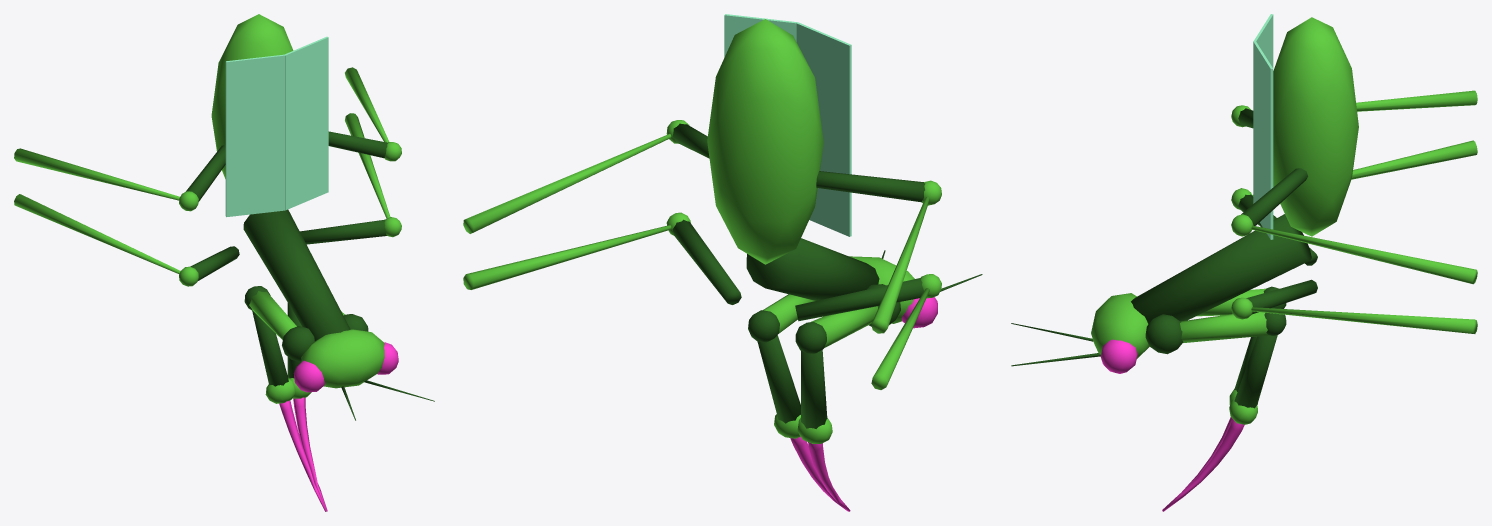
Rendered from shooter-mantis.glb.
The picture shows the model from 3 angles, left to right: view 1: azimuth 30°, elevation 25°; view 2: azimuth 150°, elevation 25°; view 3: azimuth 270°, elevation 25°; orthographic projection. The views are drawn at different scales.
Parts seen in each view (by area): view 1: Body Mesh, Head Mesh, ClawR Elbow Mesh, ClawR Mesh, LegA 2 Down Mesh, LegB 0 Down Mesh, LegA 1 Mesh, ClawL Elbow Mesh, LegB 3 Mesh, LegA 1 Down Mesh, LegA 2 Mesh, LegB 3 Down Mesh (+1 smaller); view 2: Body Mesh, ClawR Elbow Mesh, ClawL Elbow Mesh, LegA 1 Down Mesh, LegB 3 Down Mesh, LegA 2 Mesh, LegB 0 Mesh, LegA 1 Mesh, LegA 2 Down Mesh, Head Mesh, ClawR Mesh, LegB 0 Down Mesh (+2 smaller); view 3: Body Mesh, Head Mesh, ClawL Elbow Mesh, ClawL Mesh, LegB 3 Down Mesh, LegA 1 Down Mesh, LegB 0 Down Mesh, LegA 2 Down Mesh, LegB 3 Mesh, LegA 1 Mesh, ClawR Elbow Mesh.
Boxes of the visible parts, <box> form: Body Mesh: <box>211,14,350,341</box>; Head Mesh: <box>293,329,434,420</box>; ClawR Elbow Mesh: <box>244,286,326,511</box>; ClawR Mesh: <box>249,291,314,362</box>; LegA 2 Down Mesh: <box>14,148,179,200</box>; LegB 0 Down Mesh: <box>14,194,180,273</box>; LegA 1 Mesh: <box>300,219,386,244</box>; ClawL Elbow Mesh: <box>287,303,327,511</box>; LegB 3 Mesh: <box>328,131,388,158</box>; LegA 1 Down Mesh: <box>345,113,390,218</box>; LegA 2 Mesh: <box>186,145,225,201</box>; LegB 3 Down Mesh: <box>345,67,389,142</box>; Body Mesh: <box>707,14,879,300</box>; ClawR Elbow Mesh: <box>795,322,850,511</box>; ClawL Elbow Mesh: <box>748,310,847,511</box>; LegA 1 Down Mesh: <box>463,225,671,289</box>; LegB 3 Down Mesh: <box>463,134,671,233</box>; LegA 2 Mesh: <box>816,171,925,202</box>; LegB 0 Mesh: <box>795,277,923,321</box>; LegA 1 Mesh: <box>672,219,741,304</box>; LegA 2 Down Mesh: <box>871,197,929,333</box>; Head Mesh: <box>849,250,982,328</box>; ClawR Mesh: <box>810,284,900,347</box>; LegB 0 Down Mesh: <box>871,288,929,389</box>; Body Mesh: <box>1131,14,1358,323</box>; Head Mesh: <box>1011,293,1149,373</box>; ClawL Elbow Mesh: <box>1162,307,1286,511</box>; ClawL Mesh: <box>1145,312,1268,354</box>; LegB 3 Down Mesh: <box>1251,225,1477,284</box>; LegA 1 Down Mesh: <box>1251,307,1477,333</box>; LegB 0 Down Mesh: <box>1252,140,1477,196</box>; LegA 2 Down Mesh: <box>1356,90,1477,111</box>; LegB 3 Mesh: <box>1241,168,1307,225</box>; LegA 1 Mesh: <box>1246,279,1317,314</box>; ClawR Elbow Mesh: <box>1162,286,1286,509</box>.
Bounding box in the file's own units: 1.63 × 2.03 × 1.73.
2 materials, 2 textured.
